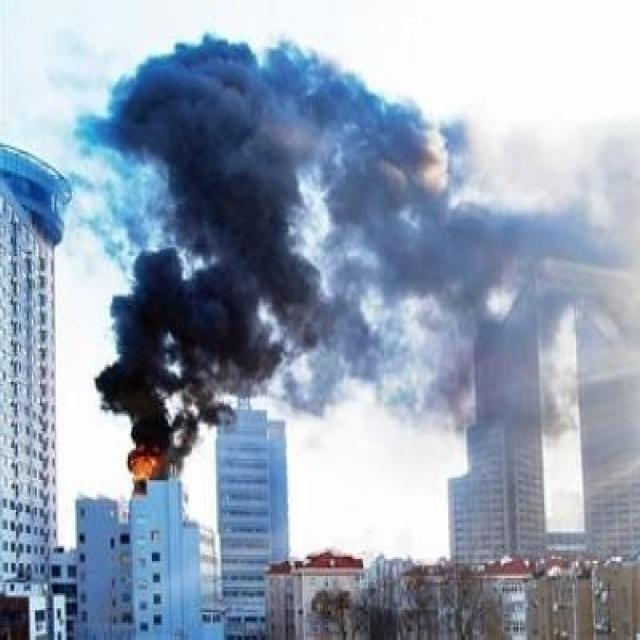Fire: (132, 452, 158, 482)
Smoke: (69, 32, 640, 480)
